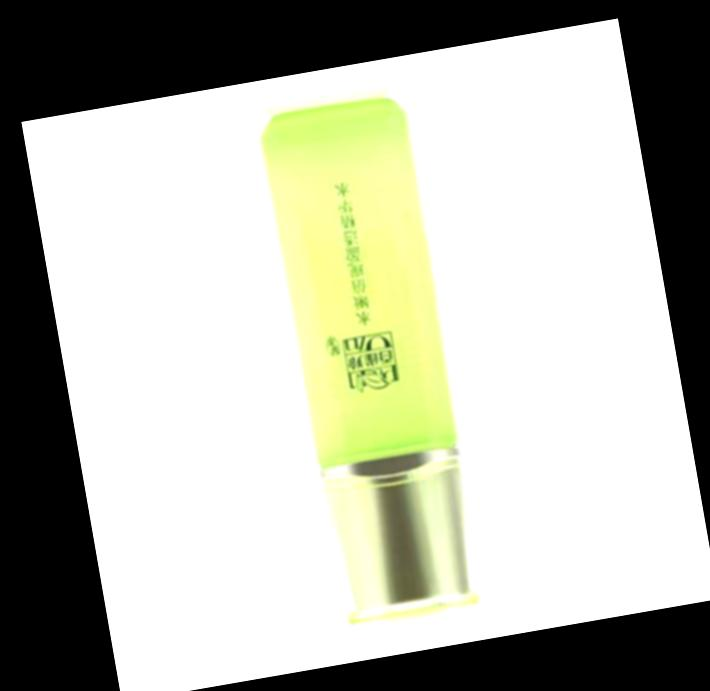cosmetic: (254, 106, 487, 632)
